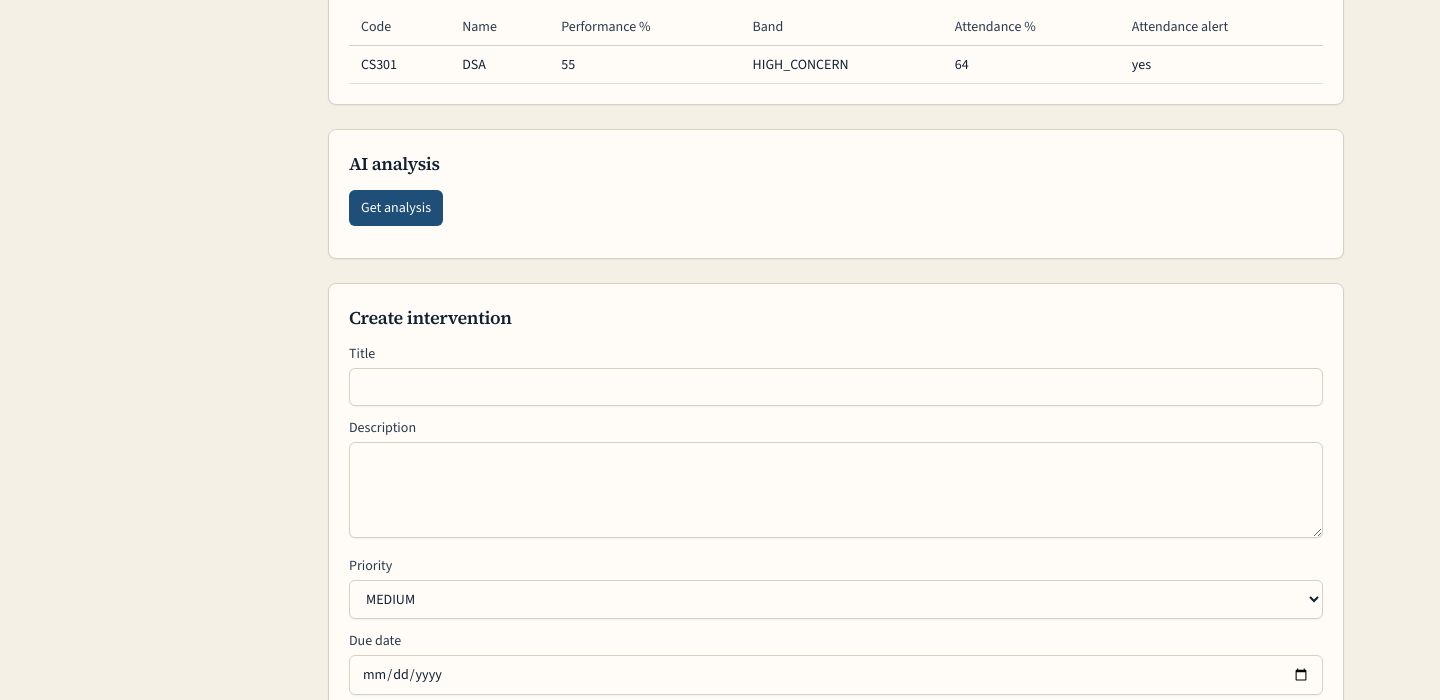
Test: Create intervention form › shows validation errors from the API
This screenshot has width=1440, height=700.
(page scrolled)
Check: the heading "Create intervention" is shown, box [349, 305, 512, 330]
In the field labelled "Title": (836, 387) [349, 368, 1323, 406], type "Meet after class"
(page scrolled)
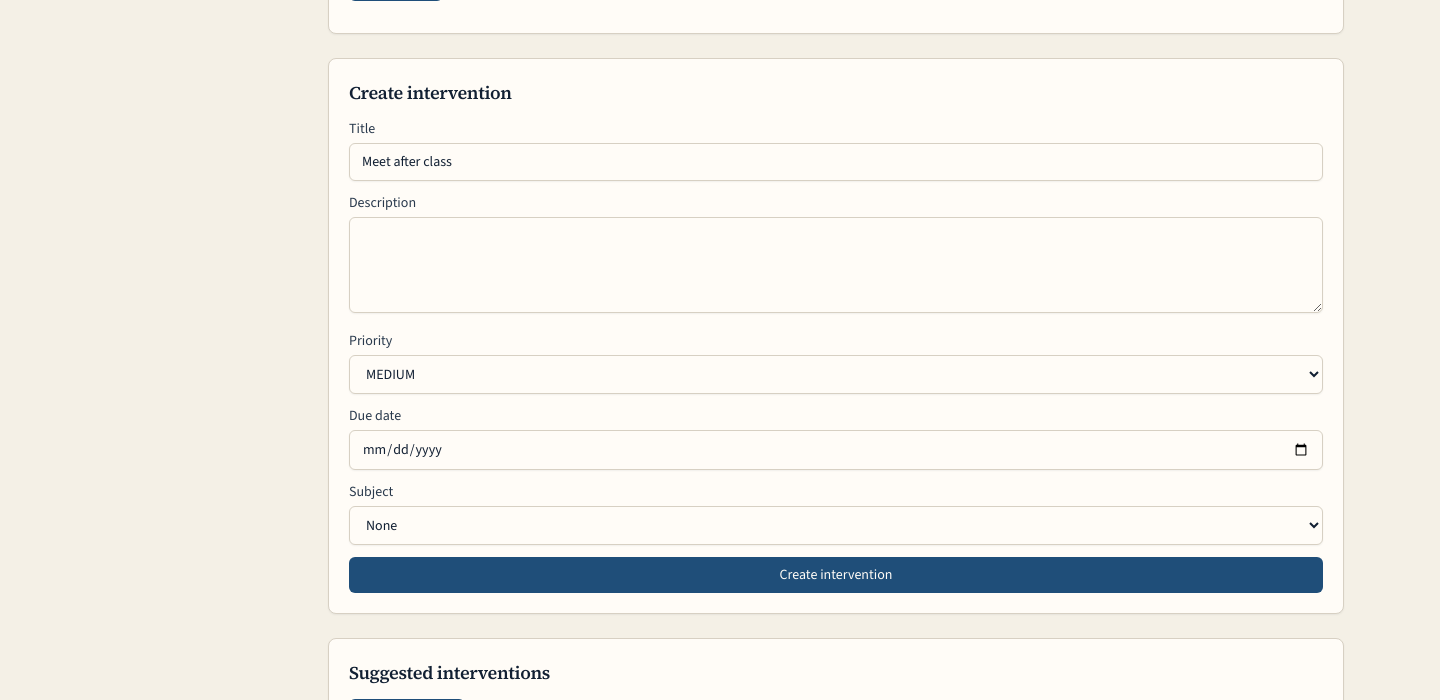
Click the button "Create intervention": (836, 575) [349, 557, 1323, 593]
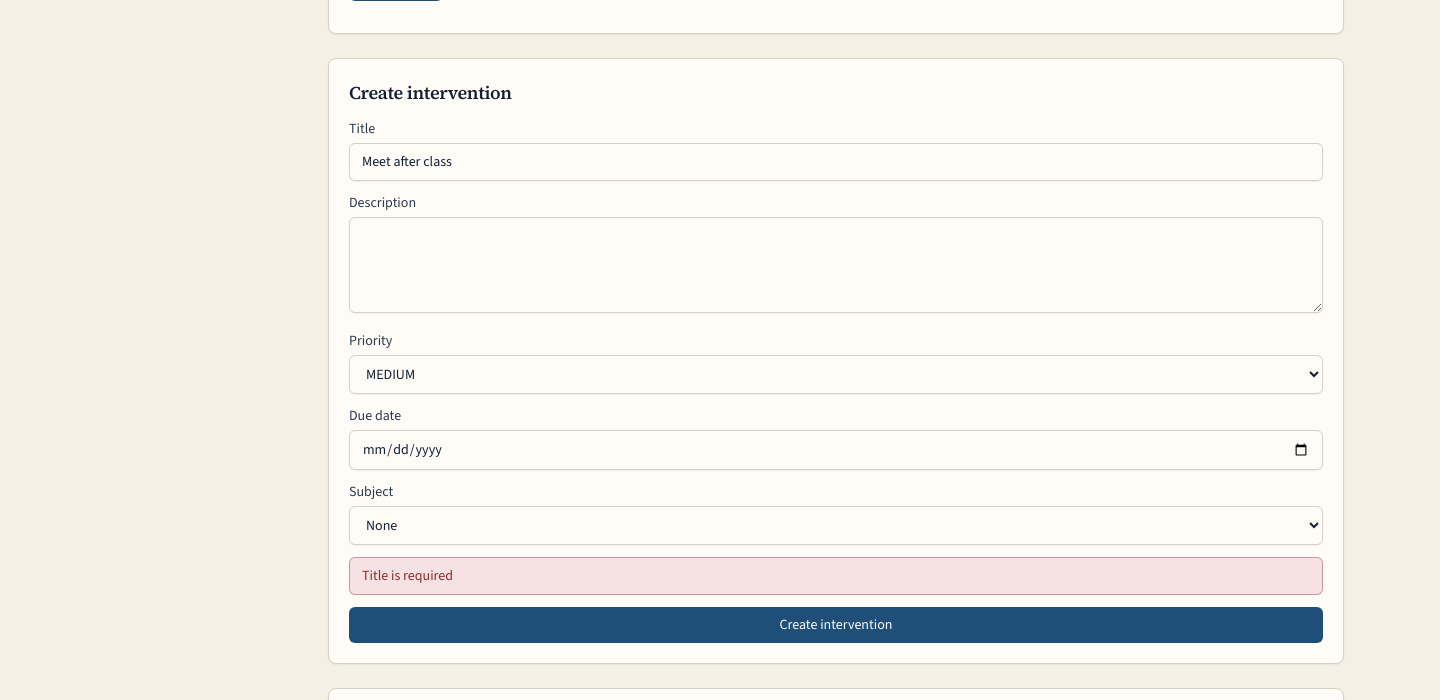
Check: the message reads "Title is required", box [362, 566, 453, 585]
